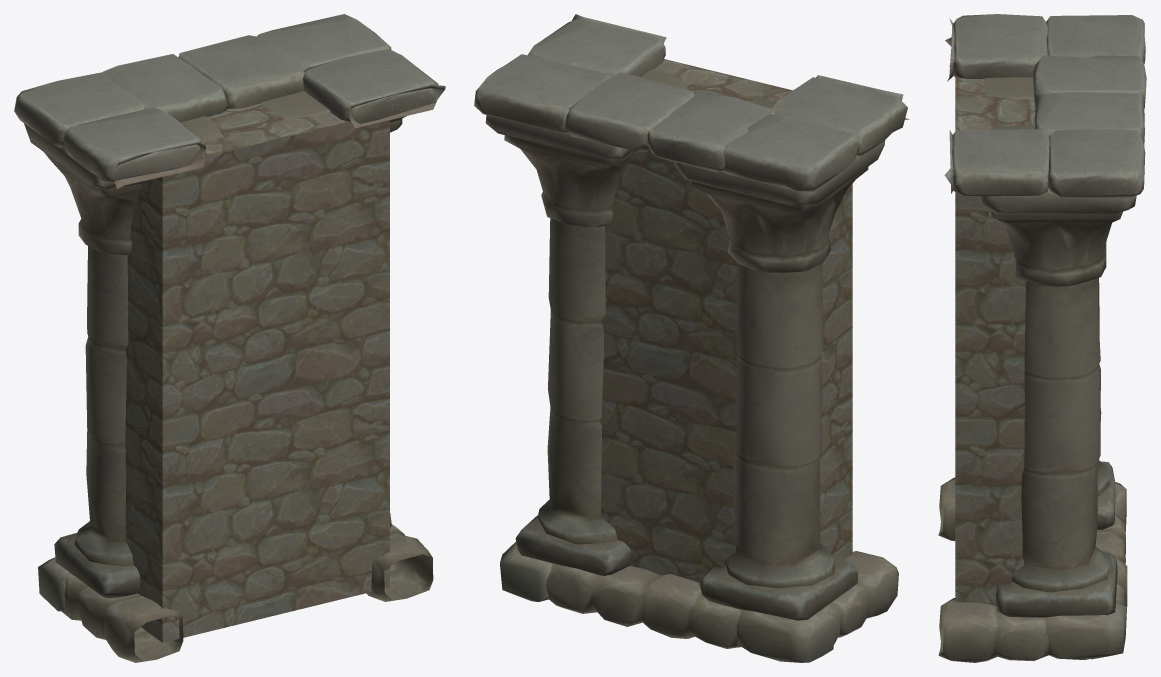
Rendered from SM_FW01_Ruins_Int_Pillar_B_2x4_Half_01.fbx.
The picture shows the model from 3 angles, left to right: view 1: azimuth 30°, elevation 25°; view 2: azimuth 150°, elevation 25°; view 3: azimuth 270°, elevation 25°; orthographic projection. The views are drawn at different scales.
Parts seen in each view (by area): view 1: SM_FW01_Ruins_Int_Pillar_B_2x4_Half_01, SM_FW01_Ruins_Int_Pillar_B_2x4_Half_01_LOD0; view 2: SM_FW01_Ruins_Int_Pillar_B_2x4_Half_01_LOD0, SM_FW01_Ruins_Int_Pillar_B_2x4_Half_01; view 3: SM_FW01_Ruins_Int_Pillar_B_2x4_Half_01_LOD0, SM_FW01_Ruins_Int_Pillar_B_2x4_Half_01.
Part boxes in pixels (x1,y1,x2,y2): SM_FW01_Ruins_Int_Pillar_B_2x4_Half_01: [125, 103, 389, 642]; SM_FW01_Ruins_Int_Pillar_B_2x4_Half_01_LOD0: [14, 14, 445, 662]; SM_FW01_Ruins_Int_Pillar_B_2x4_Half_01_LOD0: [474, 14, 909, 662]; SM_FW01_Ruins_Int_Pillar_B_2x4_Half_01: [599, 59, 852, 582]; SM_FW01_Ruins_Int_Pillar_B_2x4_Half_01_LOD0: [938, 14, 1146, 662]; SM_FW01_Ruins_Int_Pillar_B_2x4_Half_01: [955, 76, 1035, 605].
Size of what is drawn, in the model's own units: 2.97 by 4.26 by 1.61.
